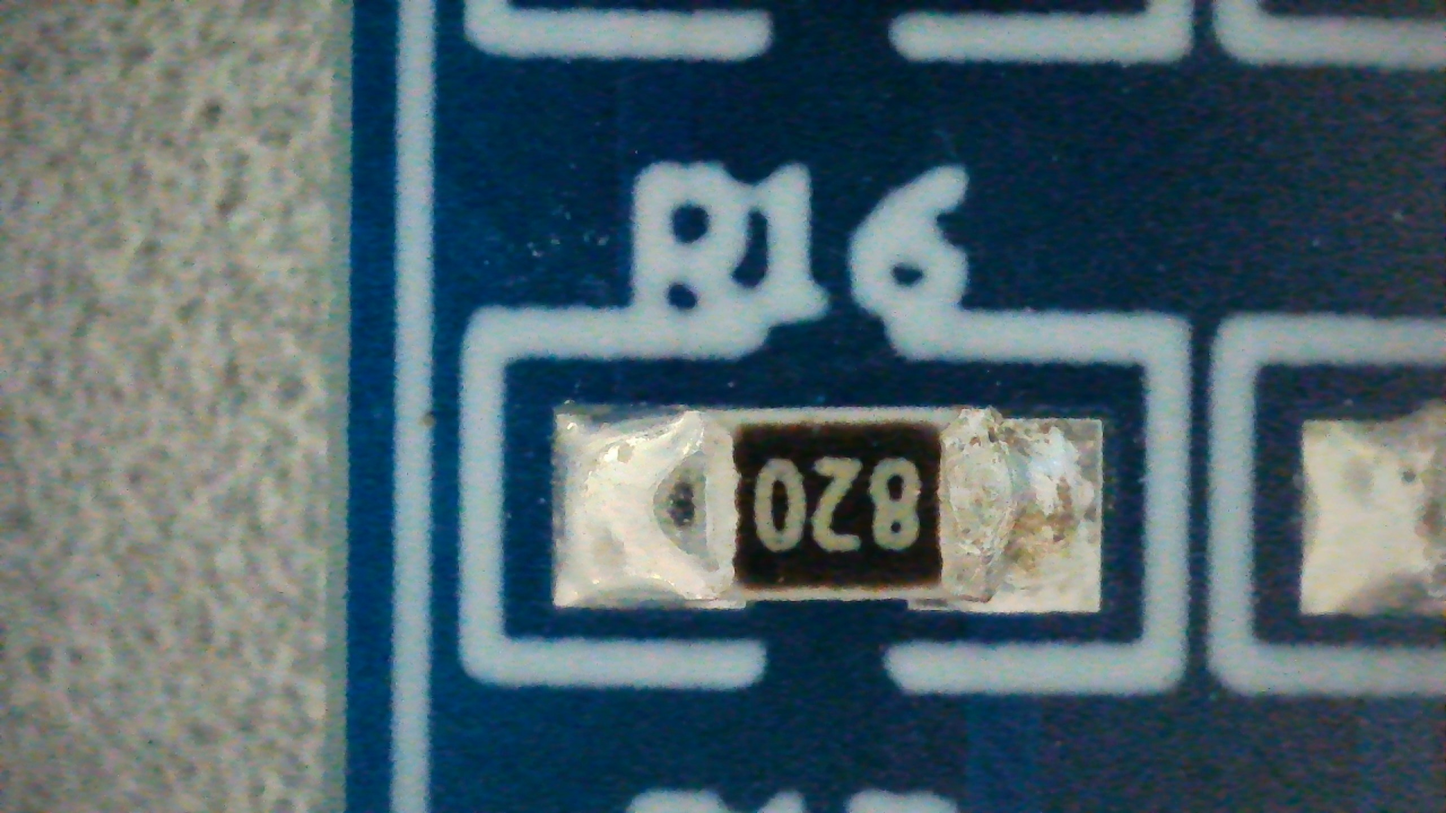OK: (552, 408, 1101, 611)
